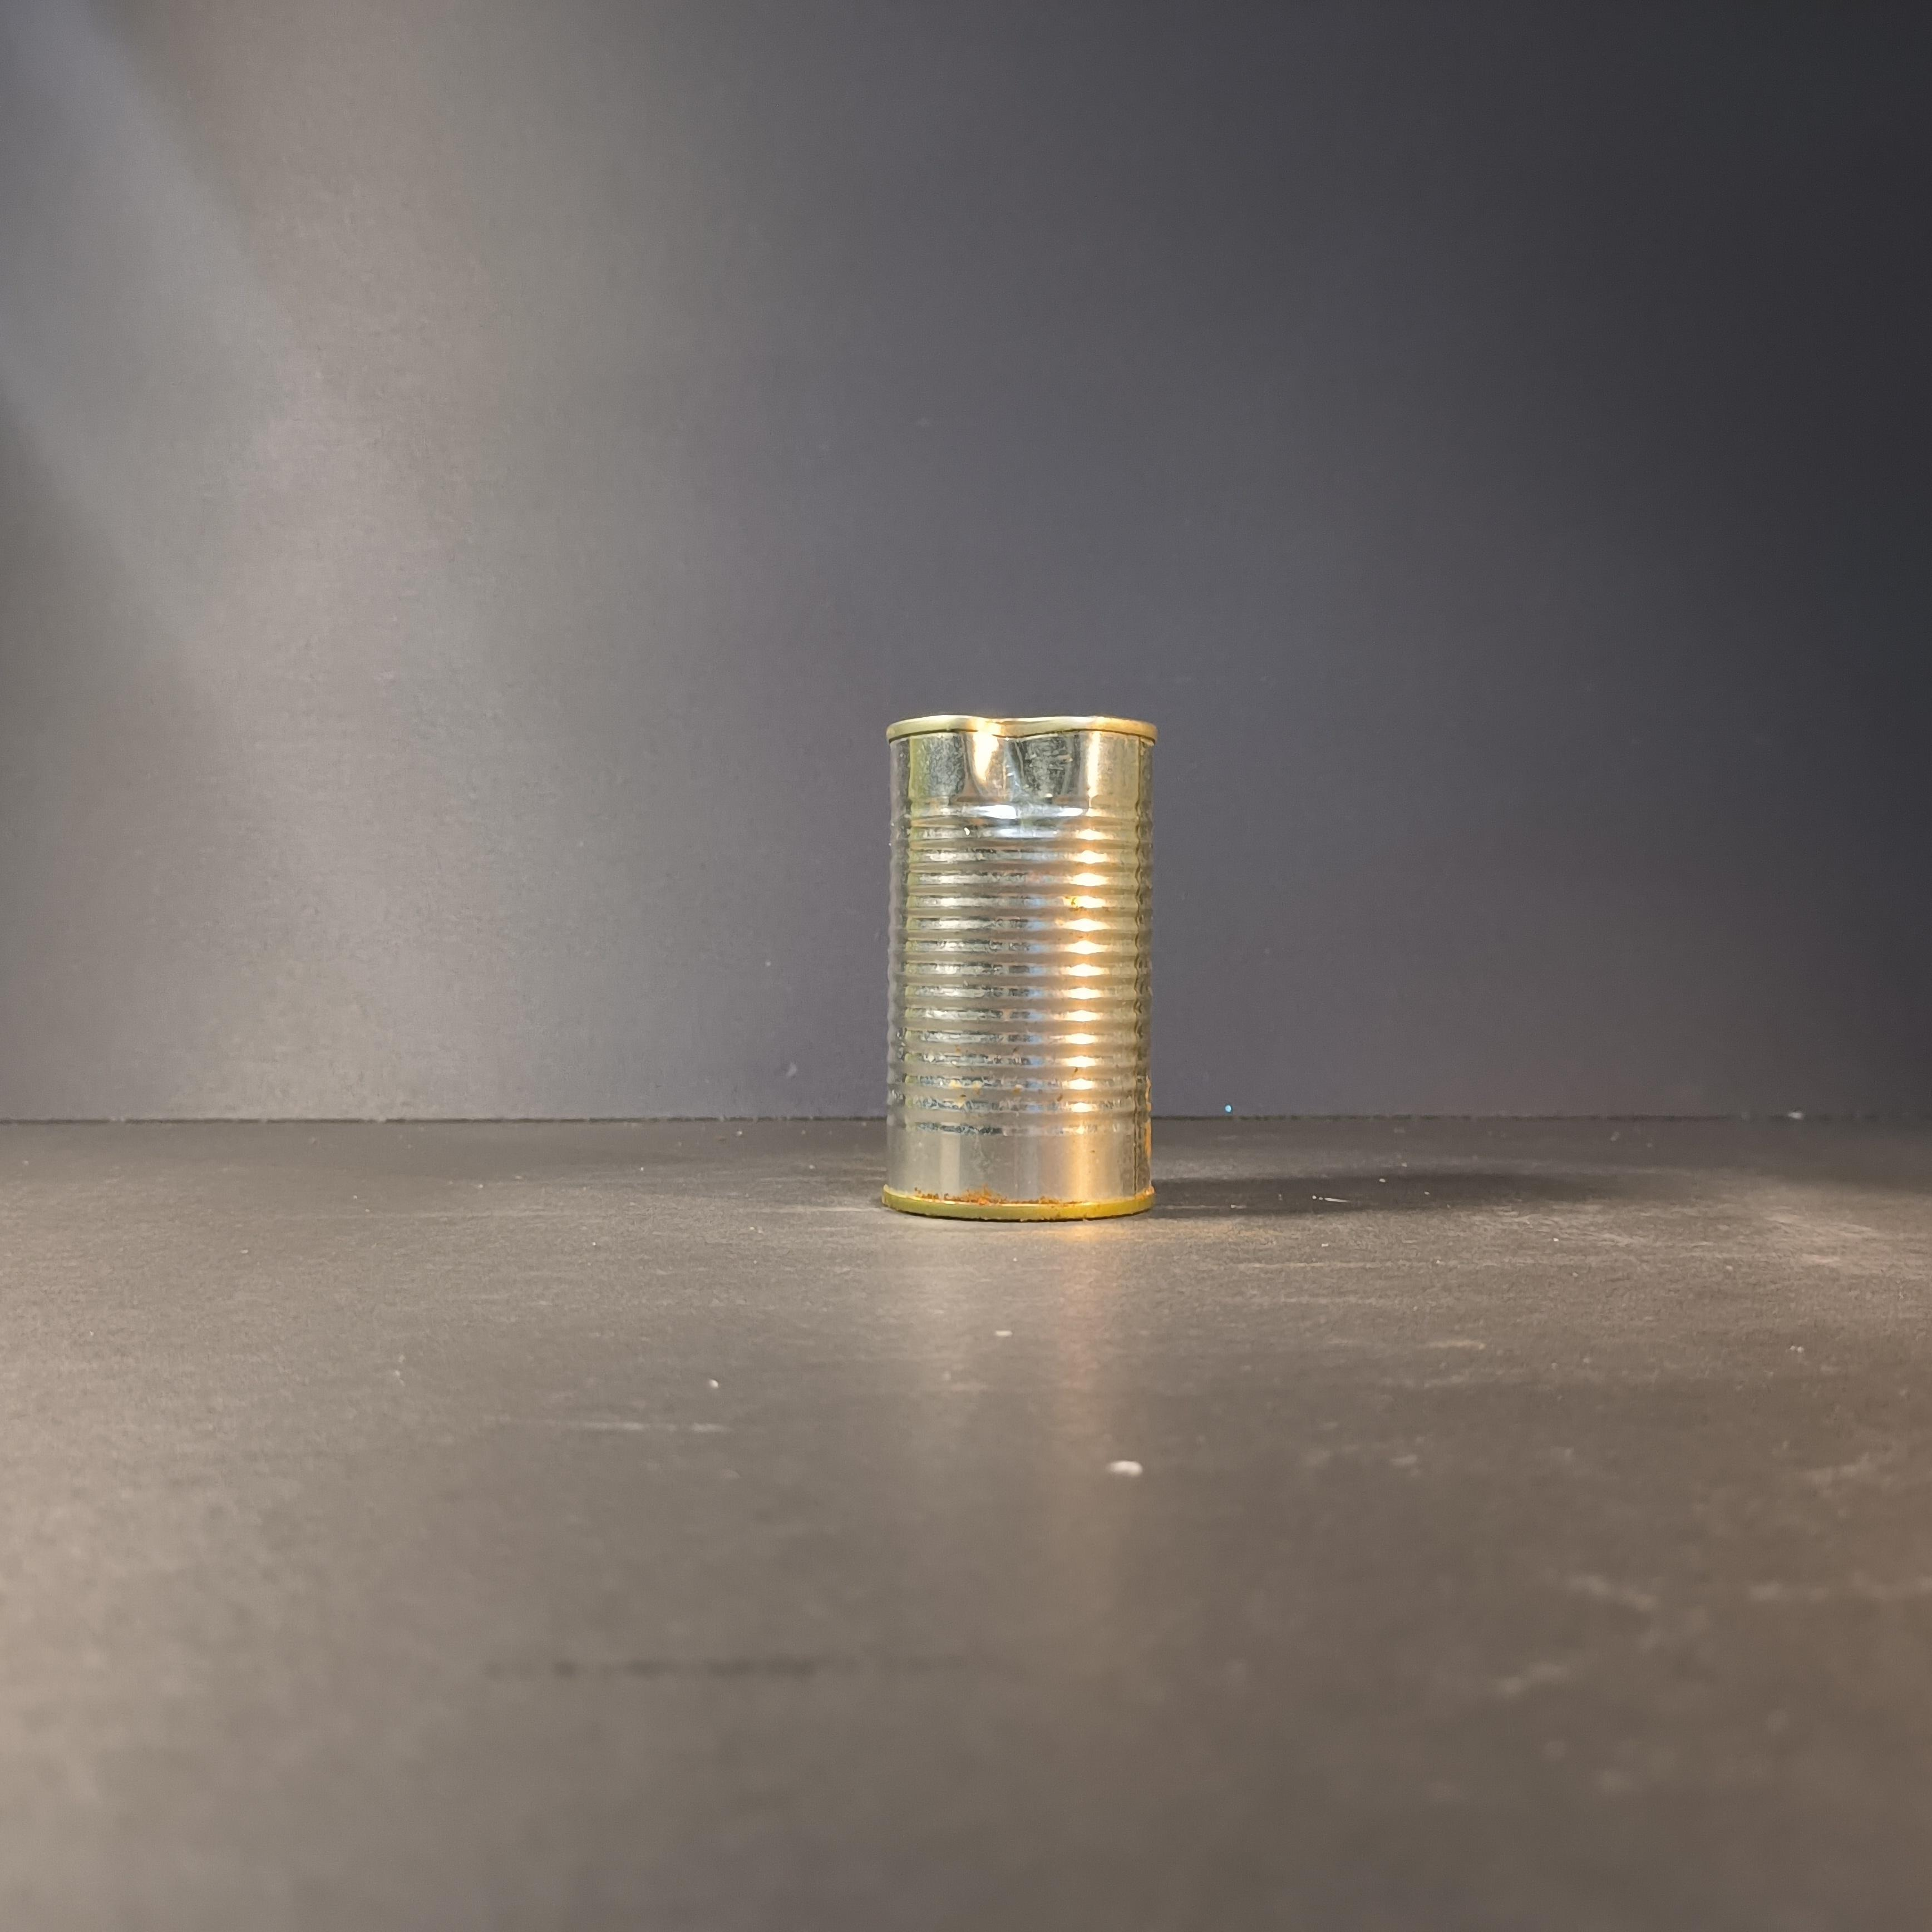Dented: (865, 686, 1175, 1221)
